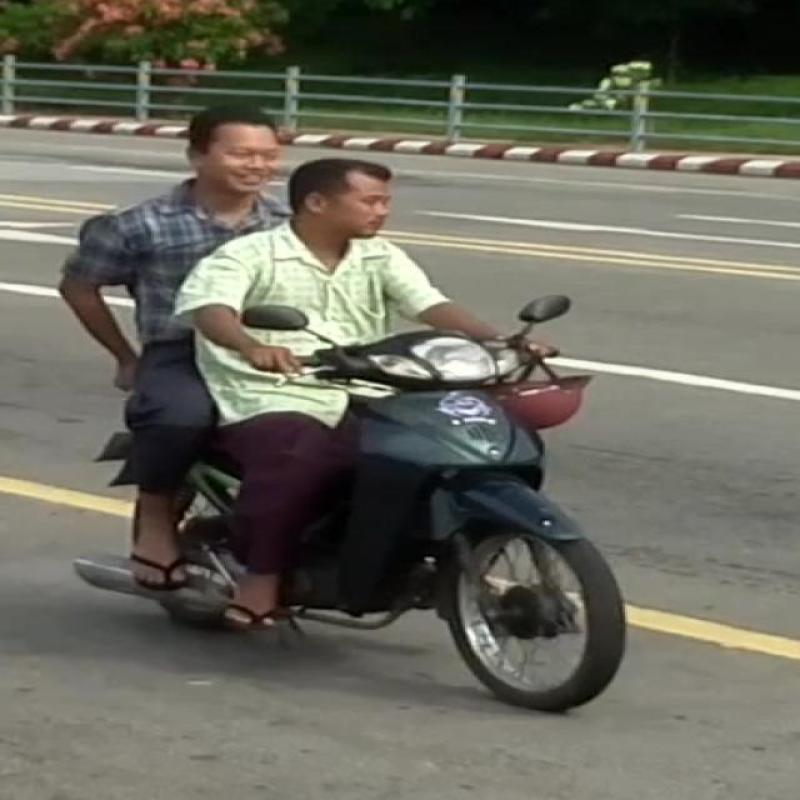nohelmet: (262, 145, 432, 260), (155, 60, 269, 188)
